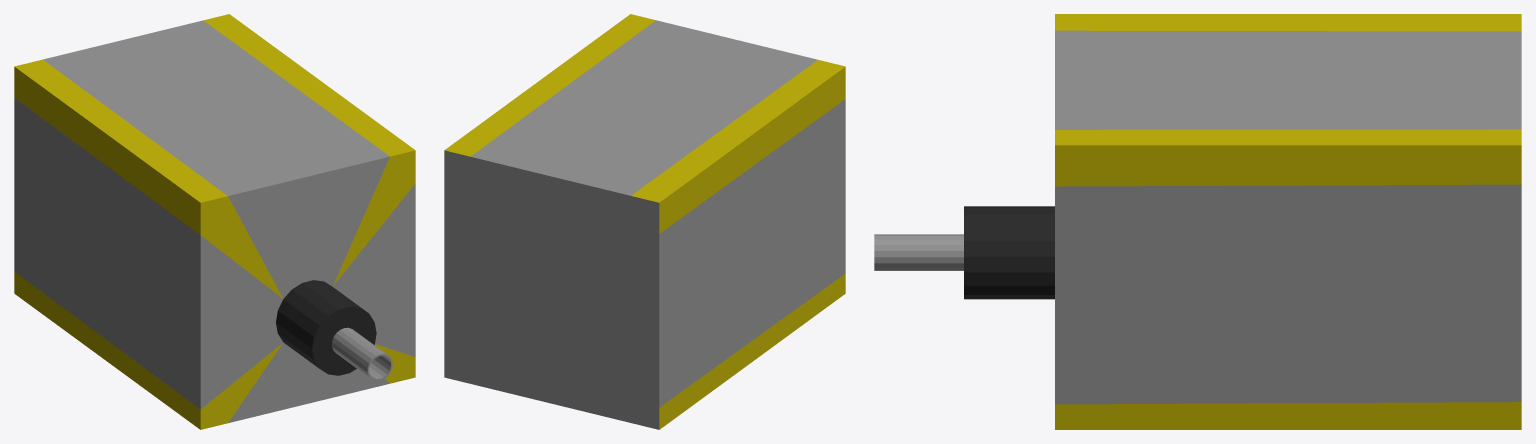
File: Toretilla.FBX
The picture shows the model from 3 angles, left to right: view 1: azimuth 30°, elevation 25°; view 2: azimuth 150°, elevation 25°; view 3: azimuth 270°, elevation 25°; orthographic projection. The views are drawn at different scales.
Parts seen in each view (by area): view 1: Torreta; view 2: Torreta; view 3: Torreta.
Part boxes in pixels (x1,y1,x2,y2): Torreta: [14, 14, 415, 429]; Torreta: [444, 14, 845, 429]; Torreta: [874, 14, 1521, 429].
Bounding box in the file's own units: 0.1 × 0.1009 × 0.2081.
